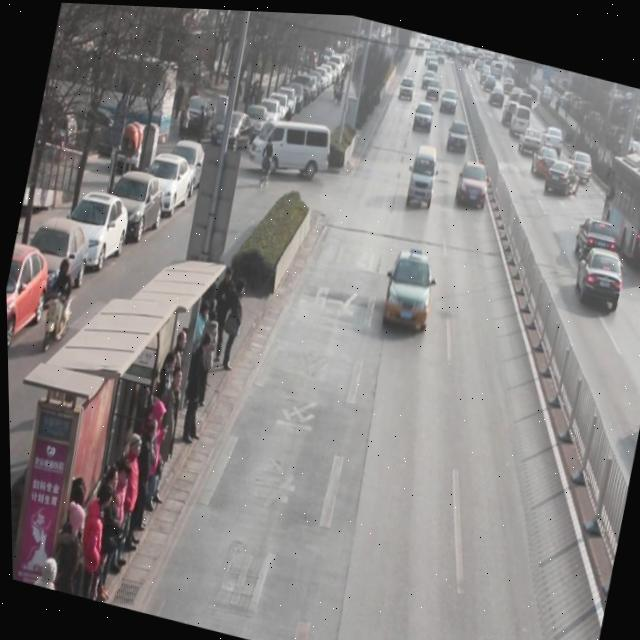car: (376, 241, 439, 333), (568, 236, 628, 311), (569, 208, 618, 268), (450, 153, 492, 209), (541, 152, 583, 196), (527, 137, 561, 176), (563, 142, 594, 183), (443, 114, 470, 153), (537, 119, 565, 154), (409, 97, 435, 133), (514, 119, 542, 152), (498, 92, 522, 125), (437, 82, 459, 114)
truck: (244, 107, 335, 187), (402, 139, 442, 209), (505, 97, 532, 137)
van: (587, 142, 640, 270)
